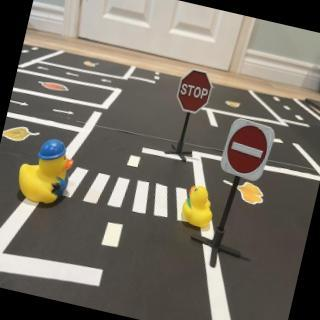duck_regular: (179, 184, 219, 231)
duck_specialty: (14, 135, 77, 211)
road_crosswalk: (63, 162, 201, 230)
road_oneway: (51, 106, 76, 120), (10, 99, 31, 109), (64, 71, 81, 81), (99, 77, 115, 86), (36, 65, 52, 72)
sign_noentry: (218, 119, 277, 185)
sign_stop: (175, 69, 216, 120)
